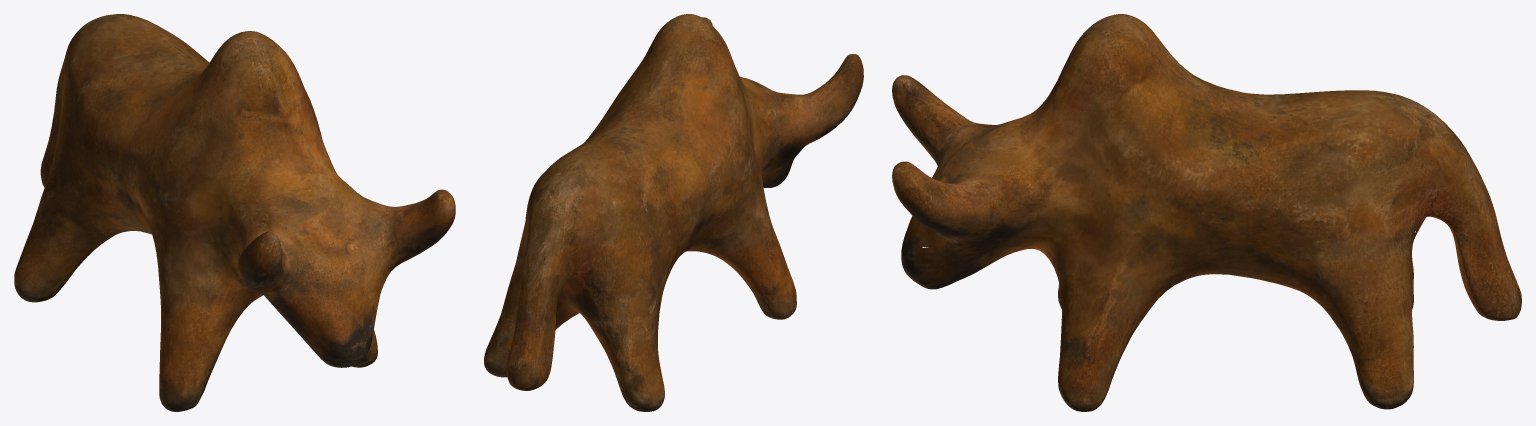
Rendered from w5wuathanu.glb.
3 views of the same model, side by side, from view 1: azimuth 30°, elevation 25°; view 2: azimuth 150°, elevation 25°; view 3: azimuth 270°, elevation 25° (orthographic). The views are drawn at different scales.
Visible parts, largest first — view 1: output_unwrapped; view 2: output_unwrapped; view 3: output_unwrapped.
Boxes of the visible parts, x1,y1,x2,y2 form: output_unwrapped: (14, 14, 455, 411); output_unwrapped: (484, 14, 863, 411); output_unwrapped: (892, 14, 1521, 411).
Size of the model in its own units: 0.0213 by 0.0329 by 0.054.
1 material, 1 textured.
